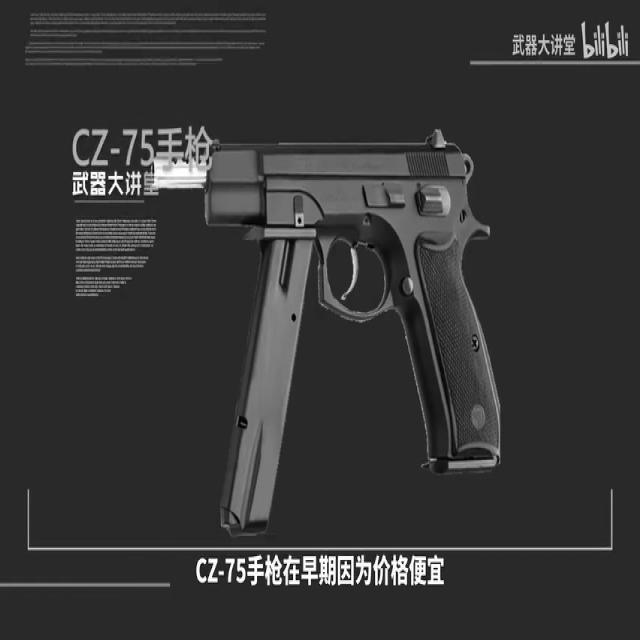Sub-machine-gun: (49, 94, 565, 556), (6, 0, 311, 214)
